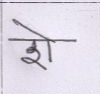e_matra: (13, 18, 55, 39)
